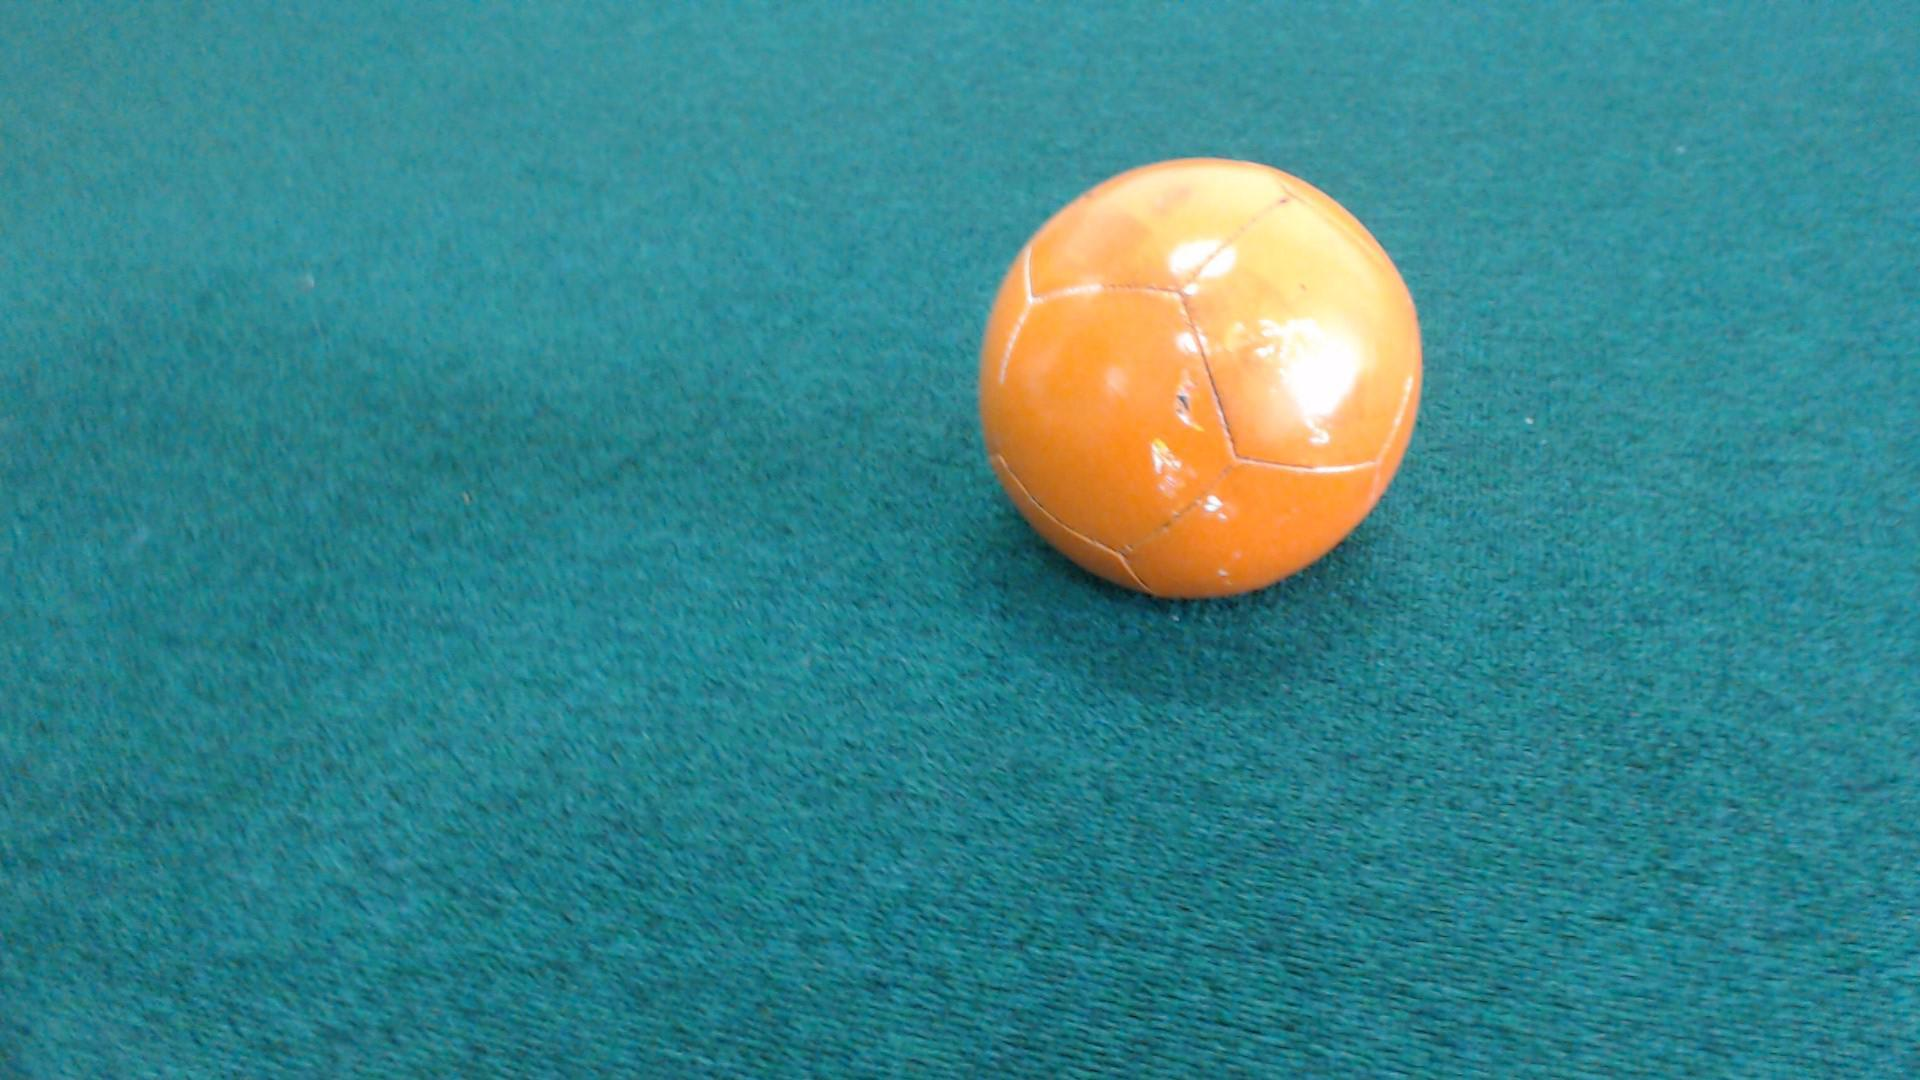bola: (945, 145, 1444, 629)
